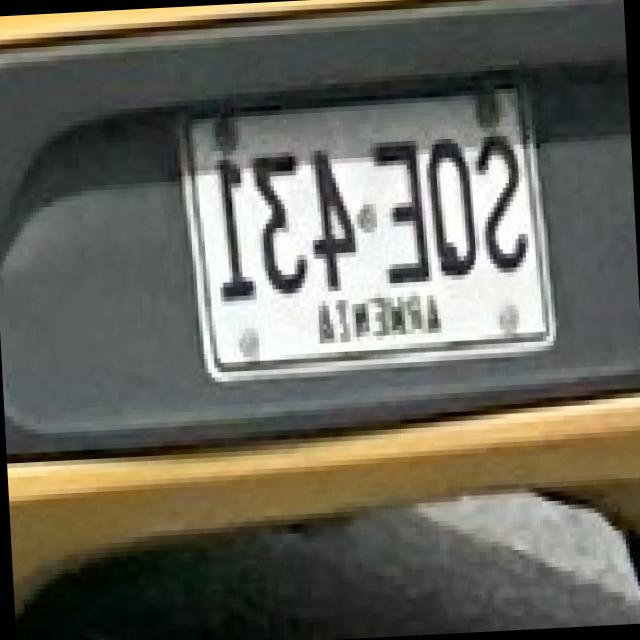number plate: (186, 83, 559, 372)
